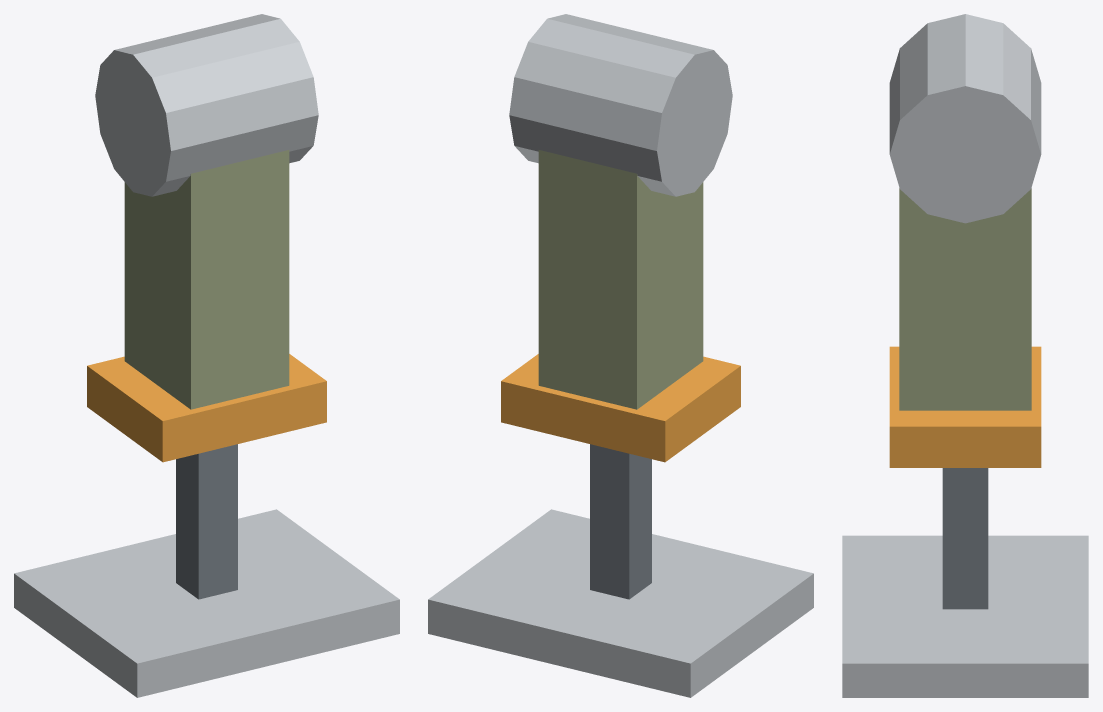
File: mech-hangar-and-battle-frames-spare-limb-stand-9c9460c6__26969.glb
3 views of the same model, side by side, from view 1: azimuth 30°, elevation 25°; view 2: azimuth 150°, elevation 25°; view 3: azimuth 270°, elevation 25° (orthographic).
Parts seen in each view (by area): view 1: spare-limb-stand; view 2: spare-limb-stand; view 3: spare-limb-stand.
Boxes of the visible parts, left/top/right/bottom form: spare-limb-stand: left=14, top=14, right=399, bottom=697; spare-limb-stand: left=428, top=14, right=813, bottom=697; spare-limb-stand: left=842, top=14, right=1088, bottom=697.
Bounding box in the file's own units: 0.8001 × 1.7 × 0.65.
